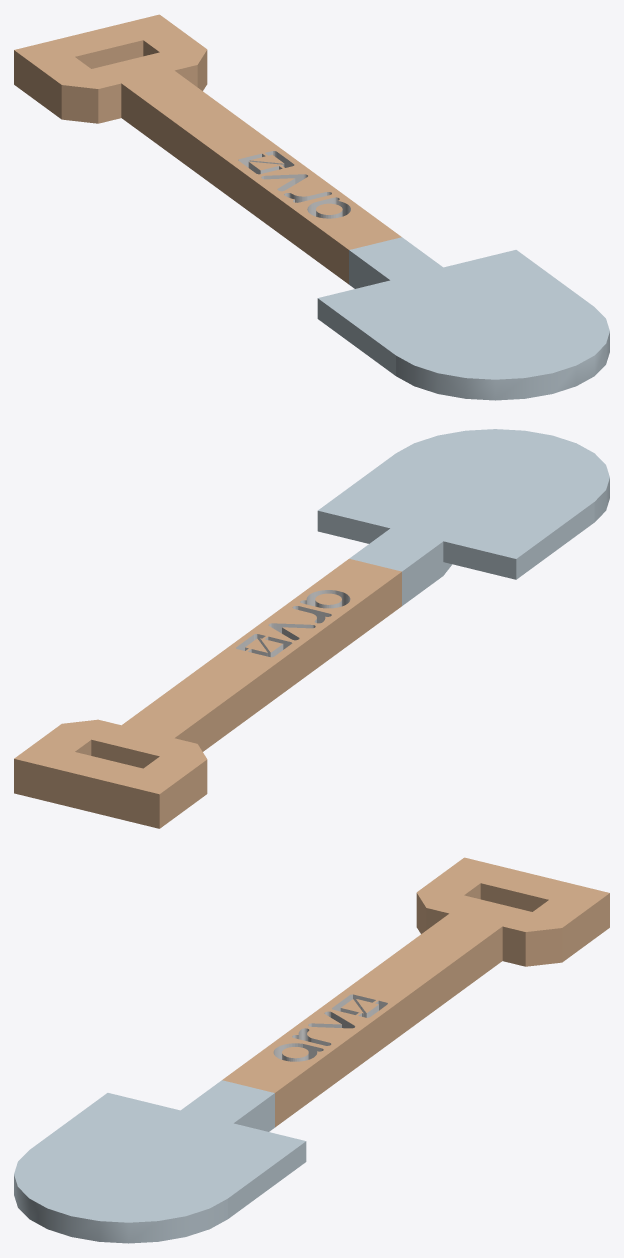
File: shovel.glb
The picture shows the model from 3 angles, top to bottom: view 1: azimuth 30°, elevation 25°; view 2: azimuth 150°, elevation 25°; view 3: azimuth 330°, elevation 25°; orthographic projection.
Parts seen in each view (by area): view 1: shovel; view 2: shovel; view 3: shovel.
Part boxes in pixels (bbox=[...]): shovel: bbox=[14, 14, 609, 400]; shovel: bbox=[14, 429, 609, 828]; shovel: bbox=[14, 857, 609, 1243].
Size of the model in its own units: 0.2208 by 0.0368 by 0.897.
